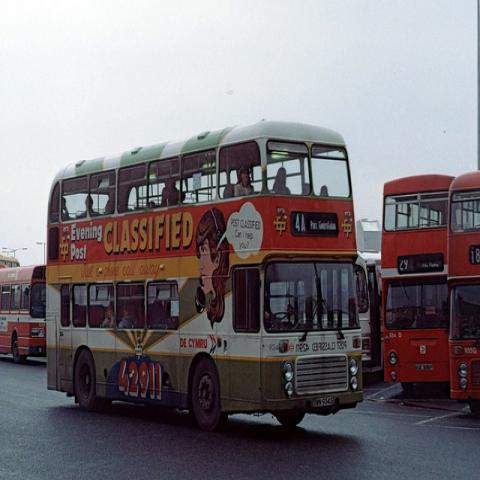bus: (46, 121, 364, 429), (379, 174, 454, 402), (447, 171, 479, 417), (1, 268, 48, 364), (356, 250, 382, 374)
